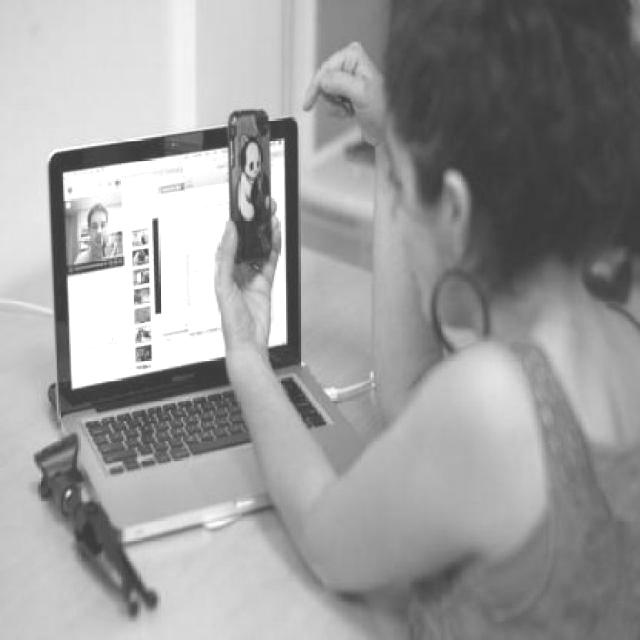fake: (178, 104, 292, 368)
